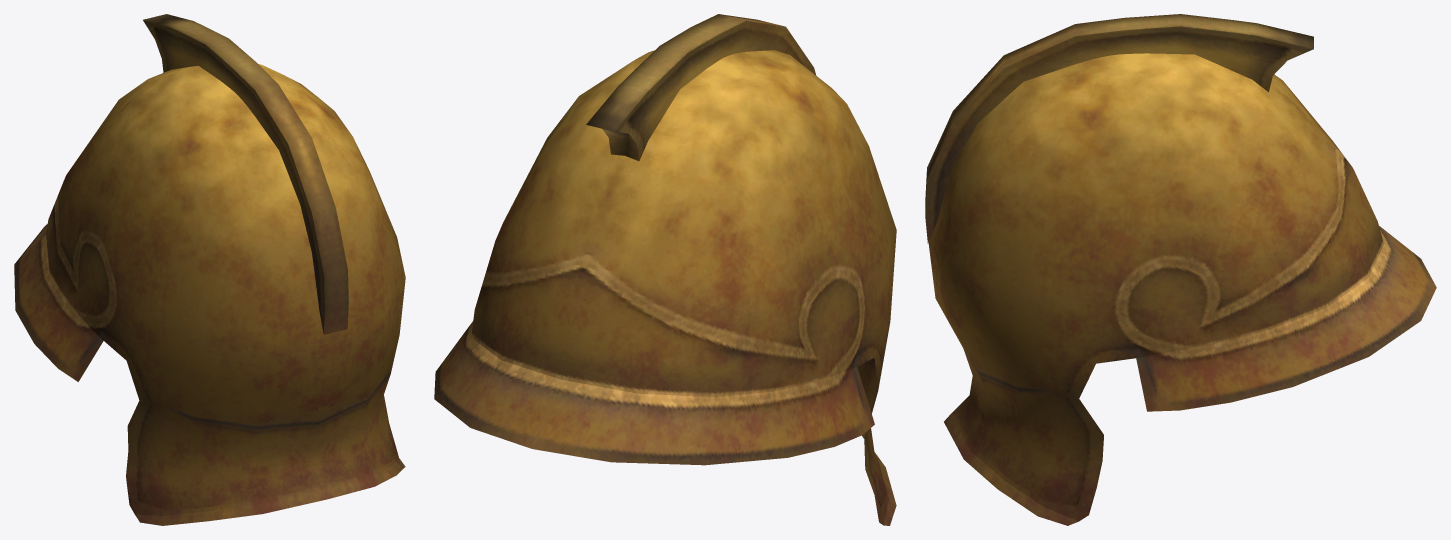
File: helm_hele_thracian_b5.glb
The picture shows the model from 3 angles, left to right: view 1: azimuth 30°, elevation 25°; view 2: azimuth 150°, elevation 25°; view 3: azimuth 270°, elevation 25°; orthographic projection. The views are drawn at different scales.
Parts seen in each view (by area): view 1: helm_hele_thracian_b5_part0, helm_hele_thracian_b5_part1; view 2: helm_hele_thracian_b5_part0, helm_hele_thracian_b5_part1; view 3: helm_hele_thracian_b5_part0, helm_hele_thracian_b5_part1.
Boxes of the visible parts, box(x1,y1,x2,y2) form: helm_hele_thracian_b5_part0: box(14, 64, 405, 525); helm_hele_thracian_b5_part1: box(143, 14, 348, 334); helm_hele_thracian_b5_part0: box(434, 50, 896, 525); helm_hele_thracian_b5_part1: box(586, 14, 816, 160); helm_hele_thracian_b5_part0: box(928, 53, 1436, 525); helm_hele_thracian_b5_part1: box(925, 14, 1313, 243).
Size of the model in its own units: 0.4956 by 0.61 by 0.6456.
2 materials, 2 textured.
